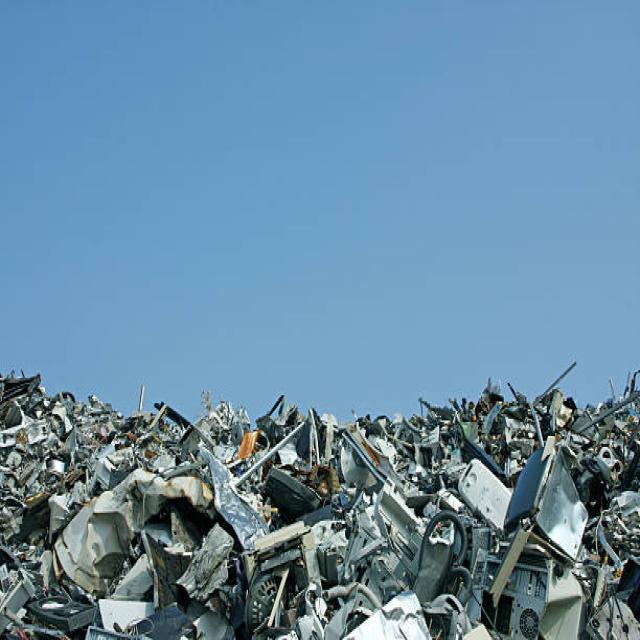metal: (55, 450, 228, 580), (1, 416, 156, 477), (350, 466, 420, 572), (449, 453, 514, 524)
